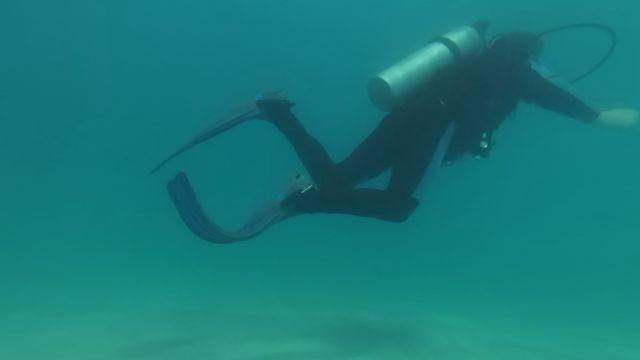Diver: (144, 12, 628, 257)
